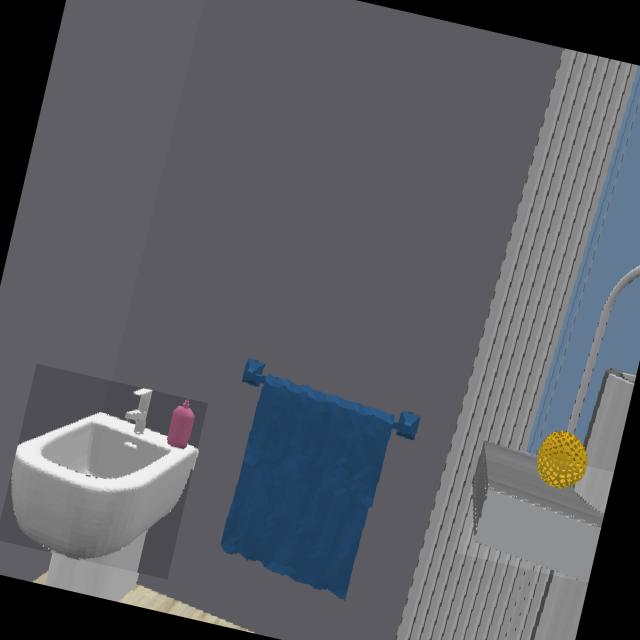shelf: (472, 442, 603, 582)
washbasin: (12, 390, 196, 559)
